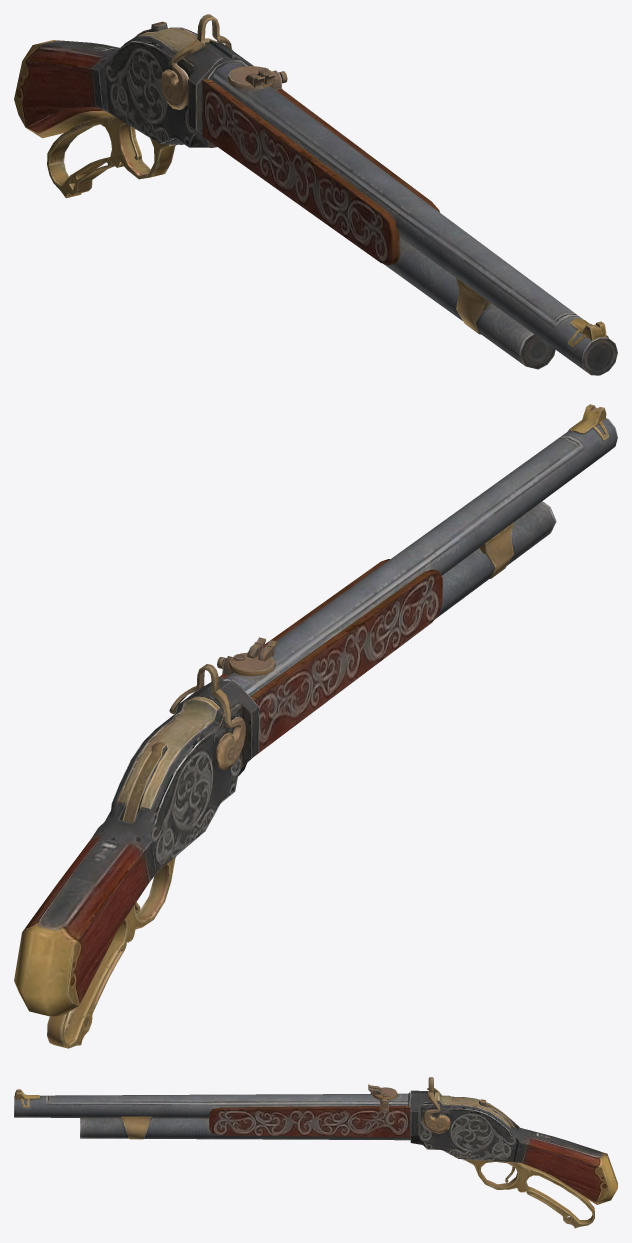
The model's file is Shotgun_sdq_02_Body_Main_(000321).glb.
3 views of the same model, one above another, from view 1: azimuth 30°, elevation 25°; view 2: azimuth 150°, elevation 25°; view 3: azimuth 270°, elevation 25° (orthographic). The views are drawn at different scales.
Visible parts, largest first — view 1: sdq_02; view 2: sdq_02; view 3: sdq_02.
Part boxes in pixels (<box>): sdq_02: <box>14,14,617,375</box>; sdq_02: <box>14,404,617,1048</box>; sdq_02: <box>14,1077,617,1228</box>.
Size of the model in its own units: 0.0926 by 0.3864 by 1.42.
Materials: 1 (1 with a texture image).
